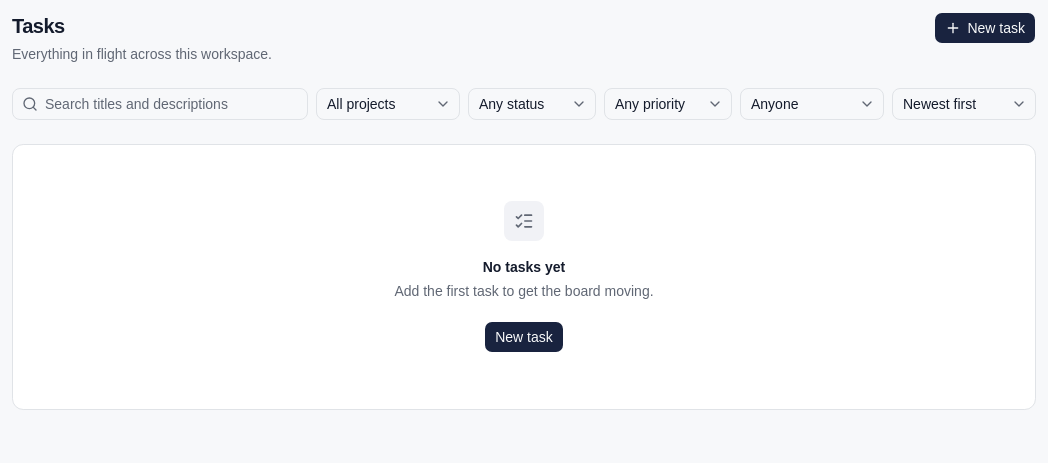
Test: TasksPage › explains an empty list differently when filters are on
expect the text "No tasks yet" is shown: met, box [483, 257, 565, 277]
Step 1. Click the dropdown named "Filter by status" → (532, 104), box [468, 88, 596, 120]
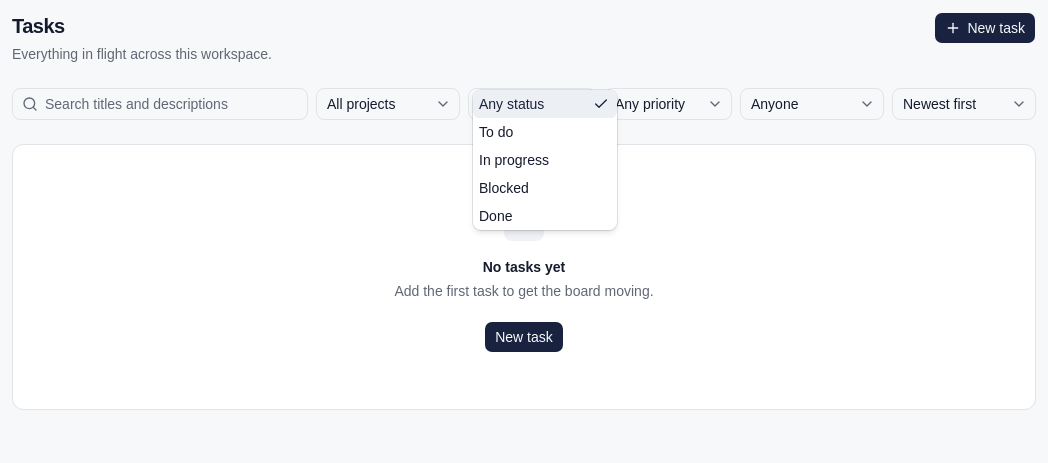
Step 2. Click the option "Done" → (496, 216), box [479, 208, 512, 224]
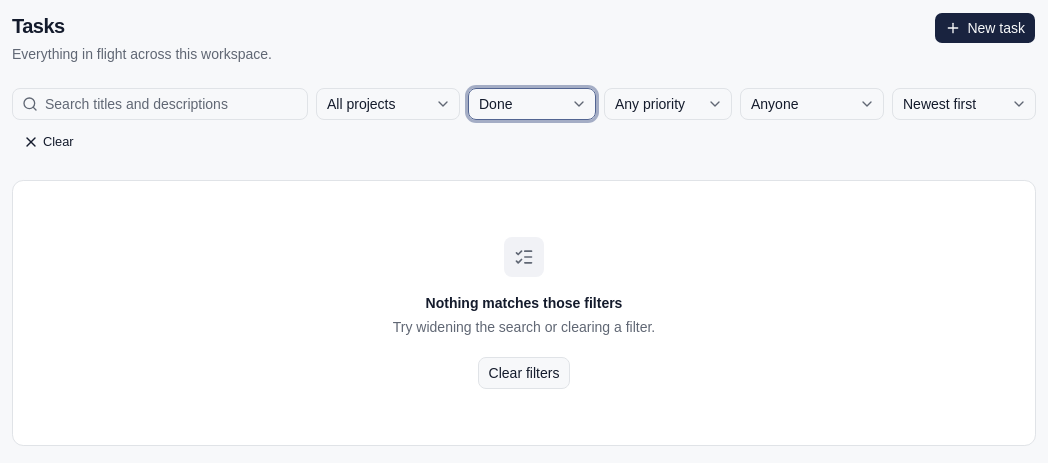
expect the text "Nothing matches those filters" is shown: met, box [426, 293, 622, 313]
